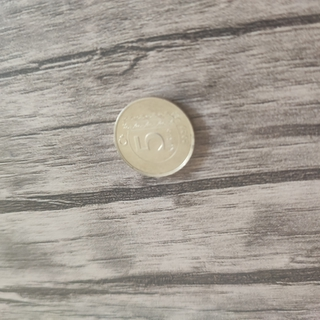5KURUS: (109, 94, 198, 180)
